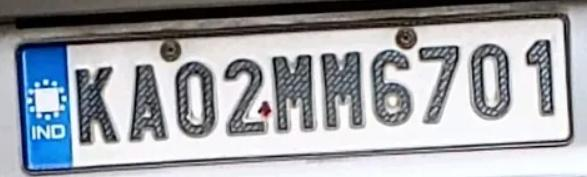0: (170, 57, 226, 137), (469, 41, 515, 123)
1: (521, 34, 562, 120)
2: (218, 55, 273, 139)
6: (367, 44, 419, 129)
7: (412, 41, 463, 128)
A: (124, 58, 173, 145)
K: (67, 63, 123, 146)
M: (316, 44, 371, 135), (268, 50, 318, 135)
